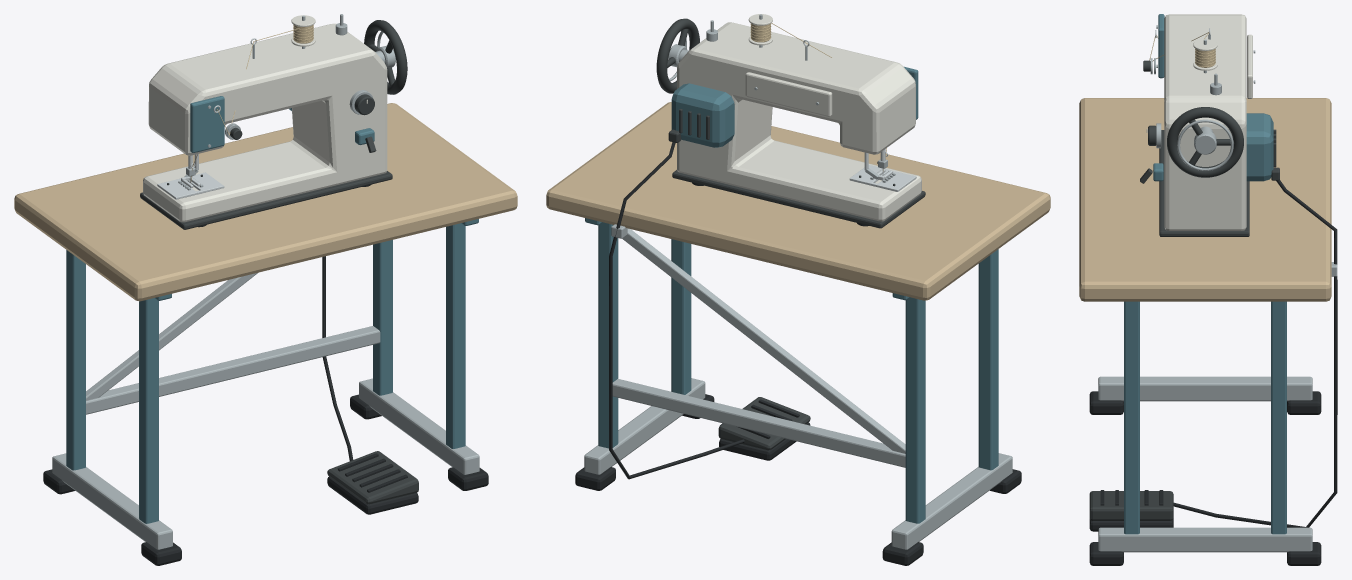
The model's file is city-bench-sewing-machine.glb.
3 views of the same model, side by side, from view 1: azimuth 30°, elevation 25°; view 2: azimuth 150°, elevation 25°; view 3: azimuth 270°, elevation 25° (orthographic).
Visible parts, largest first — view 1: Assembly | Pale solid laminate worktop, Assembly | Warm white appliance enamel, Assembly | Muted blue machine enamel, Assembly | Satin structural steel, Assembly | Dark mechanical housings, Assembly | Graphite rubber and grips, Assembly | Satin stainless drum and hardware; view 2: Assembly | Pale solid laminate worktop, Assembly | Warm white appliance enamel, Assembly | Muted blue machine enamel, Assembly | Satin structural steel, Assembly | Dark mechanical housings, Assembly | Graphite rubber and grips, Assembly | Satin stainless drum and hardware; view 3: Assembly | Pale solid laminate worktop, Assembly | Warm white appliance enamel, Assembly | Satin structural steel, Assembly | Muted blue machine enamel, Assembly | Dark mechanical housings, Assembly | Graphite rubber and grips, Assembly | Warm neutral sewing thread.
Part boxes in pixels (x1=…): Assembly | Pale solid laminate worktop: x1=14, y1=103, x2=517, y2=301; Assembly | Warm white appliance enamel: x1=143, y1=15, x2=387, y2=222; Assembly | Muted blue machine enamel: x1=66, y1=96, x2=478, y2=523; Assembly | Satin structural steel: x1=52, y1=14, x2=479, y2=549; Assembly | Dark mechanical housings: x1=140, y1=20, x2=418, y2=504; Assembly | Graphite rubber and grips: x1=43, y1=184, x2=488, y2=565; Assembly | Satin stainless drum and hardware: x1=157, y1=38, x2=256, y2=199; Assembly | Pale solid laminate worktop: x1=546, y1=102, x2=1050, y2=300; Assembly | Warm white appliance enamel: x1=677, y1=14, x2=921, y2=221; Assembly | Muted blue machine enamel: x1=585, y1=66, x2=998, y2=523; Assembly | Satin structural steel: x1=584, y1=14, x2=1012, y2=549; Assembly | Dark mechanical housings: x1=656, y1=18, x2=925, y2=450; Assembly | Graphite rubber and grips: x1=575, y1=142, x2=1021, y2=565; Assembly | Satin stainless drum and hardware: x1=803, y1=40, x2=916, y2=191; Assembly | Pale solid laminate worktop: x1=1079, y1=98, x2=1331, y2=301; Assembly | Warm white appliance enamel: x1=1146, y1=14, x2=1252, y2=230; Assembly | Satin structural steel: x1=1098, y1=25, x2=1337, y2=552; Assembly | Muted blue machine enamel: x1=1124, y1=14, x2=1286, y2=534; Assembly | Dark mechanical housings: x1=1089, y1=60, x2=1279, y2=520; Assembly | Graphite rubber and grips: x1=1089, y1=180, x2=1337, y2=565; Assembly | Warm neutral sewing thread: x1=1149, y1=32, x2=1215, y2=67.
Size of the model in its own units: 1.06 by 1.22 by 0.6144.
